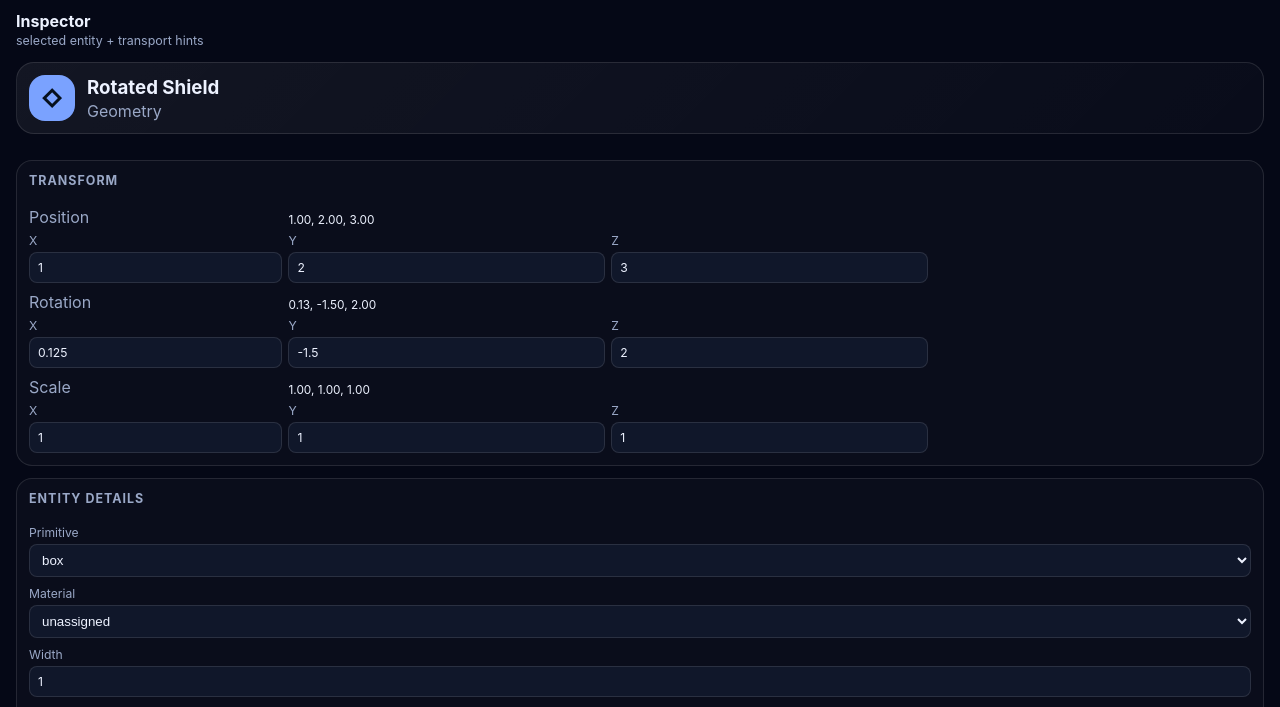
Test: InspectorPanel rotation › shows rejected input without committing a partial entity
This screenshot has width=1280, height=707.
Step 1. Replace the text in the number field named "Scale X" with "0" → [156, 438], box [29, 422, 282, 453]
(page scrolled)
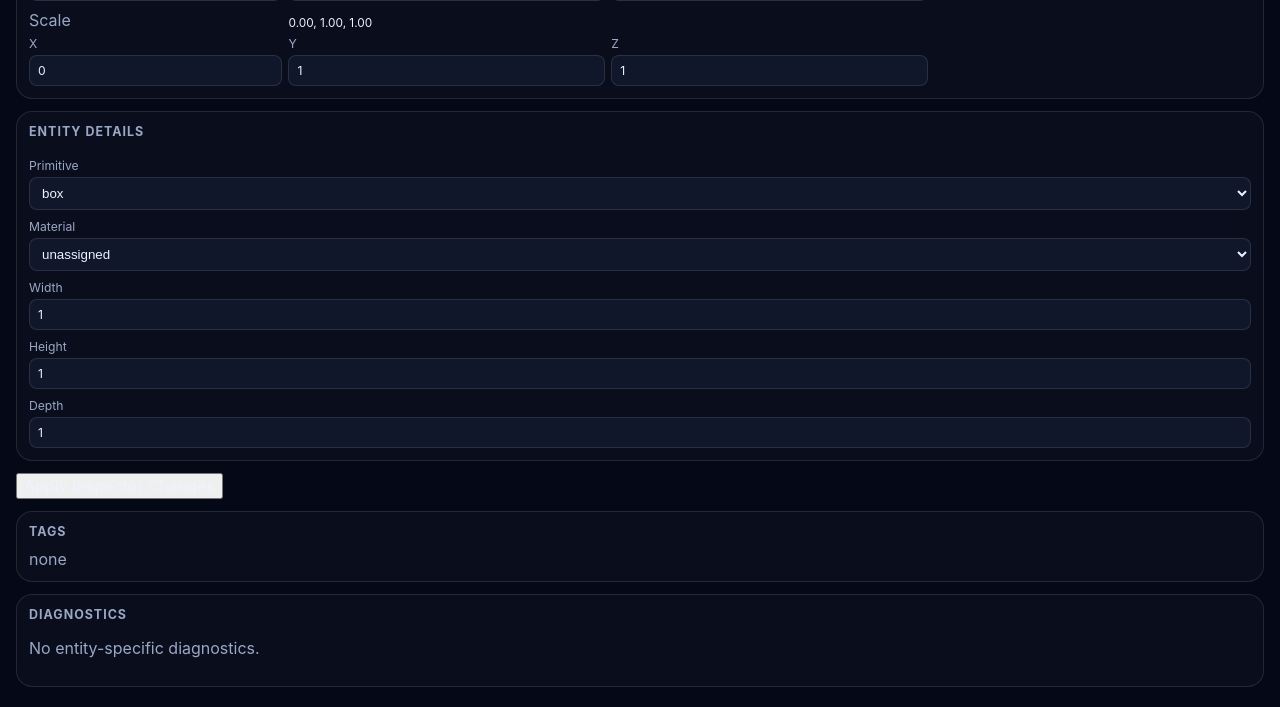
Step 2. Click the button "Apply Inspector Changes" → [119, 486], box [16, 473, 223, 499]
(page scrolled)
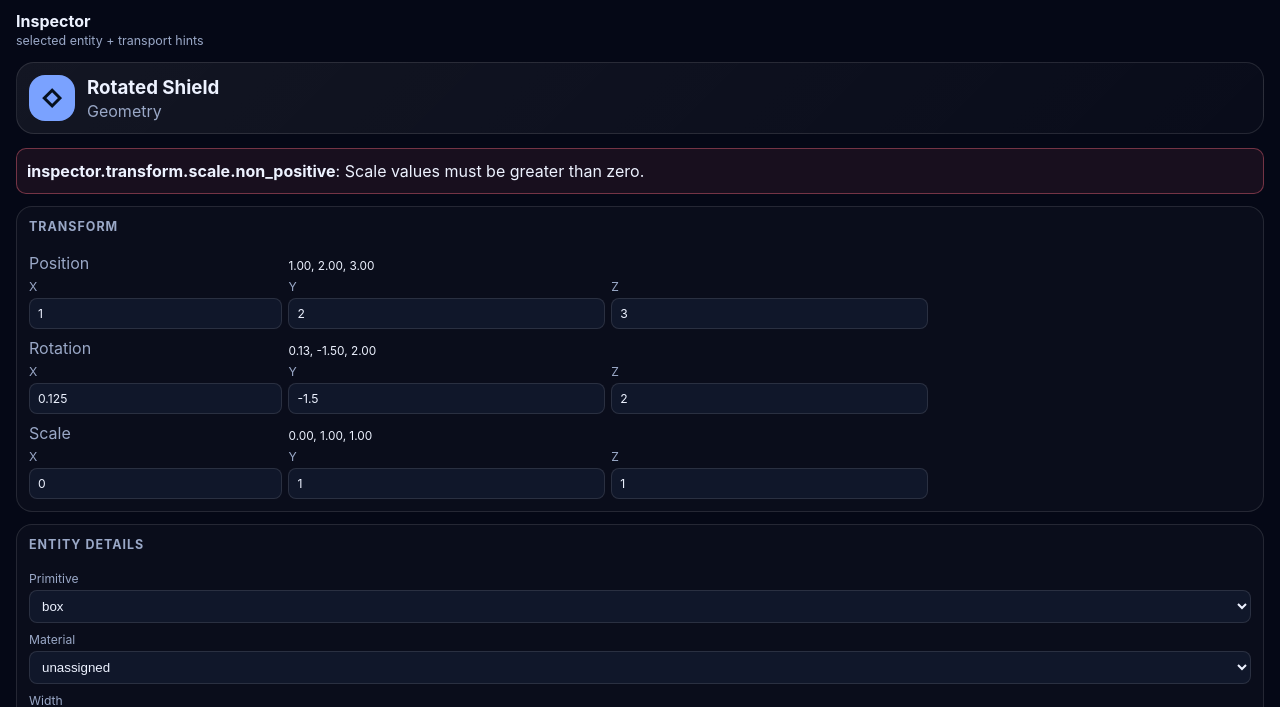
Expected: the message named "Inspector edit rejected" shows "Scale values must be greater than zero", [345, 161, 644, 181]
